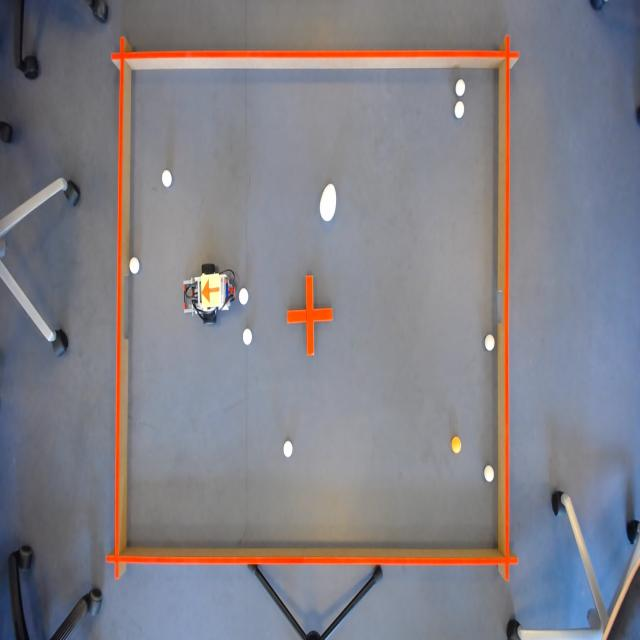cross: (286, 272, 334, 358)
egg: (318, 179, 338, 224)
orange_ball: (450, 433, 462, 458)
robot: (201, 273, 223, 311)
white_ball: (453, 98, 468, 122), (282, 438, 296, 462), (128, 254, 141, 278), (484, 331, 497, 355), (241, 324, 253, 349), (454, 74, 466, 98), (161, 167, 174, 189), (482, 461, 494, 484), (238, 284, 249, 309)
